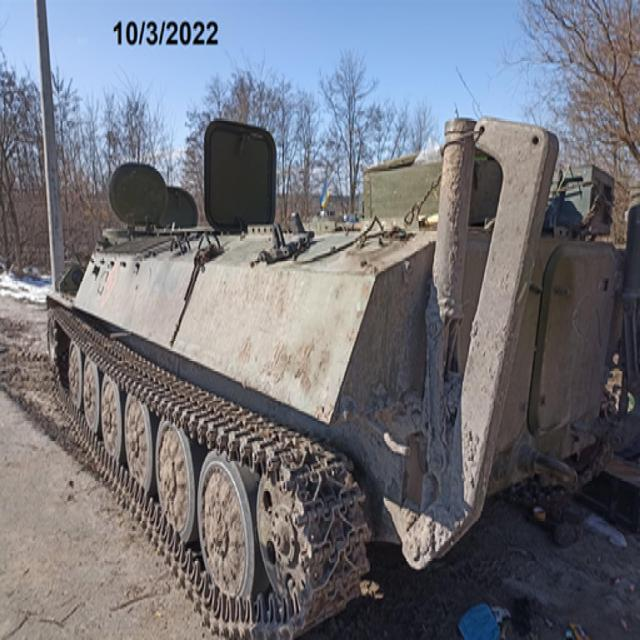APC-IFV: (37, 102, 638, 638)
